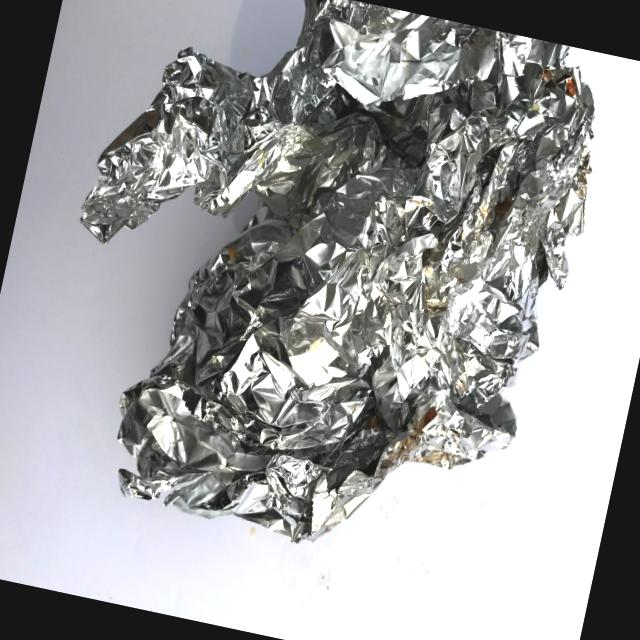Metal: (5, 0, 628, 639)
